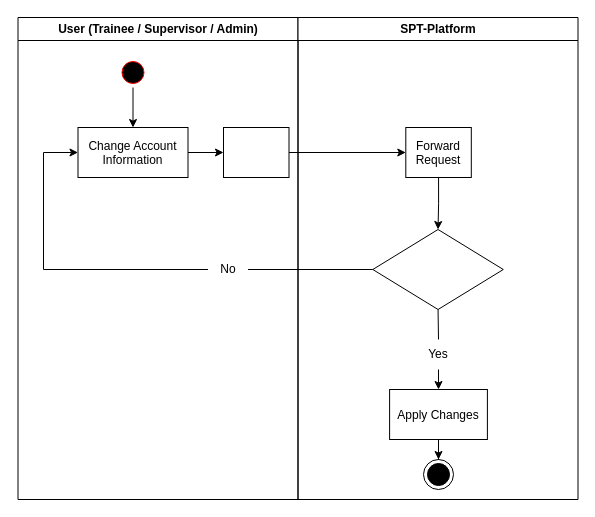
Some shapes in this 595 by 517 pixel diagram are drawn without their labels. The centre of each missing label's shape, as x and y in pixels:
Send Request: the point at 255,152
Valid Account Info Changes?: the point at 437,269
